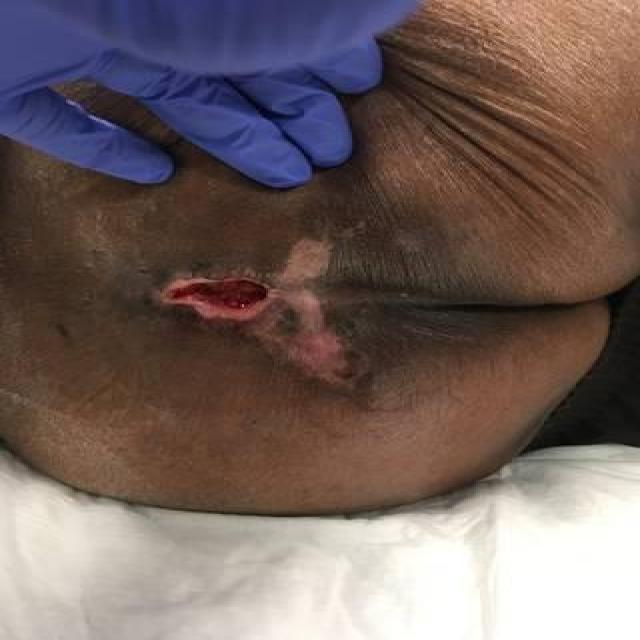stage-3: (168, 280, 267, 308)
